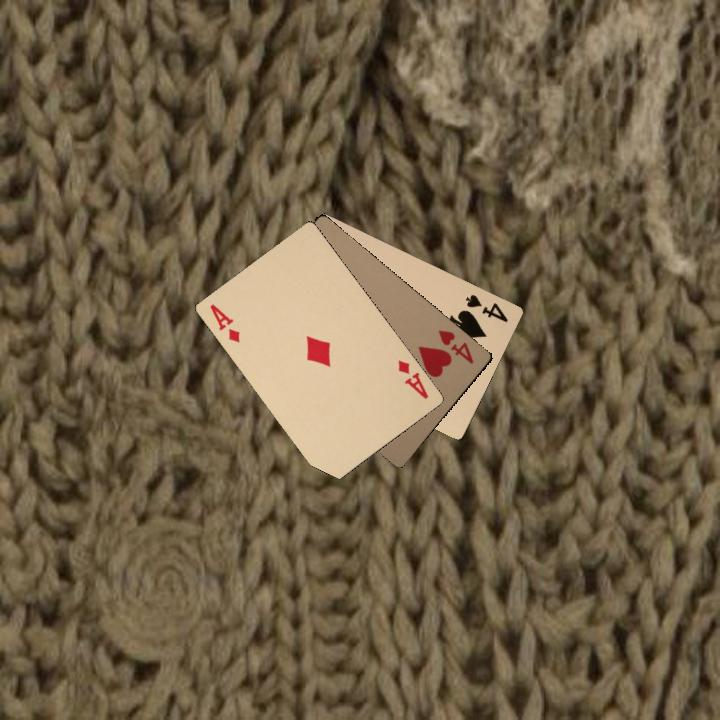4h: (434, 326, 476, 366)
4s: (462, 290, 511, 325)
Ad: (394, 356, 431, 402), (206, 300, 242, 345)
